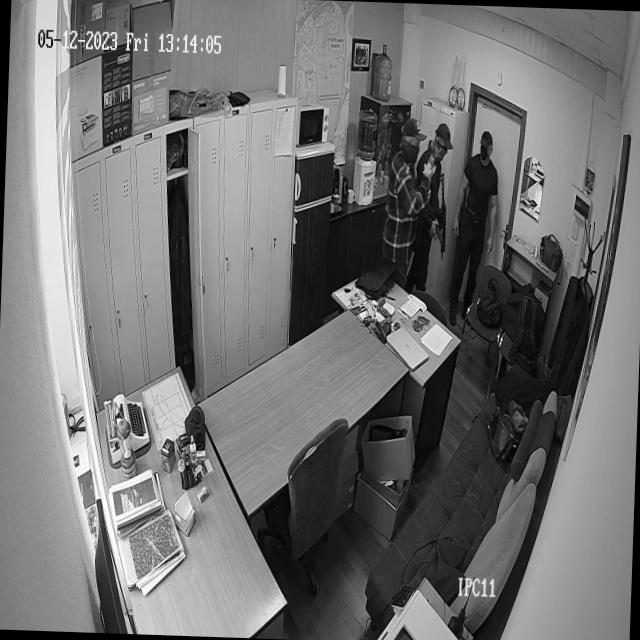gun: (435, 171, 448, 255)
person: (453, 130, 499, 314), (417, 123, 446, 289)
person with a gun: (418, 122, 446, 289)
